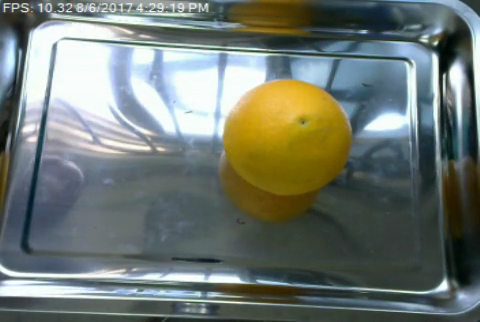Orange: (220, 79, 352, 194)
